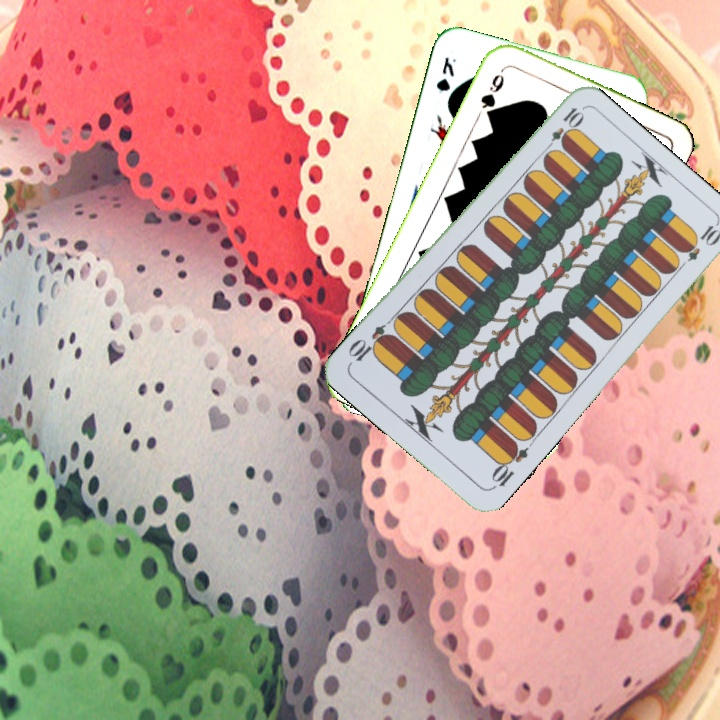E10: (486, 438, 531, 492), (540, 103, 586, 155)
G9: (477, 63, 509, 121)
GK: (432, 52, 459, 96)
